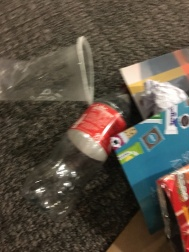bottle_red: (34, 81, 134, 218)
